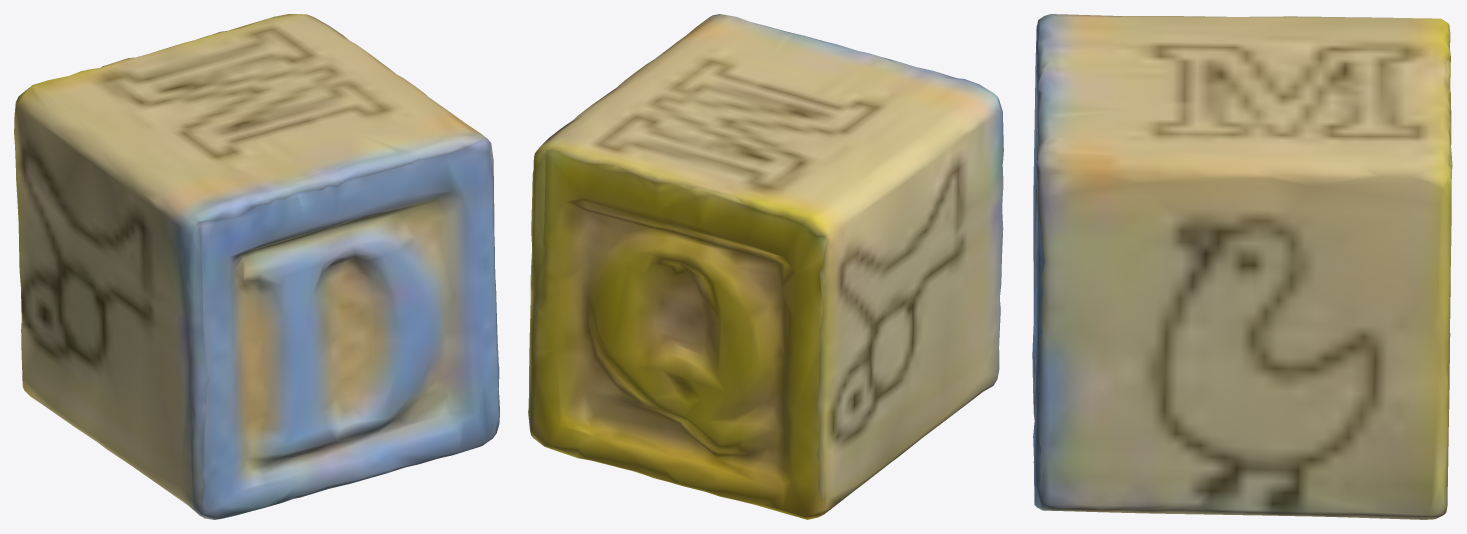
Rendered from Granimals_20_Wooden_ABC_Blocks_Wagon_85VdSftGsLi-medium.glb.
The picture shows the model from 3 angles, left to right: view 1: azimuth 30°, elevation 25°; view 2: azimuth 150°, elevation 25°; view 3: azimuth 270°, elevation 25°; orthographic projection. The views are drawn at different scales.
Parts seen in each view (by area): view 1: Granimals_20_Wooden_ABC_Blocks_Wagon_85VdSftGsLi; view 2: Granimals_20_Wooden_ABC_Blocks_Wagon_85VdSftGsLi; view 3: Granimals_20_Wooden_ABC_Blocks_Wagon_85VdSftGsLi.
Part boxes in pixels (x1=…): Granimals_20_Wooden_ABC_Blocks_Wagon_85VdSftGsLi: x1=14, y1=14, x2=499, y2=519; Granimals_20_Wooden_ABC_Blocks_Wagon_85VdSftGsLi: x1=528, y1=14, x2=1003, y2=519; Granimals_20_Wooden_ABC_Blocks_Wagon_85VdSftGsLi: x1=1032, y1=14, x2=1452, y2=519.
Size of the model in its own units: 0.0306 by 0.0305 by 0.0312.
Materials: 1 (1 with a texture image).
